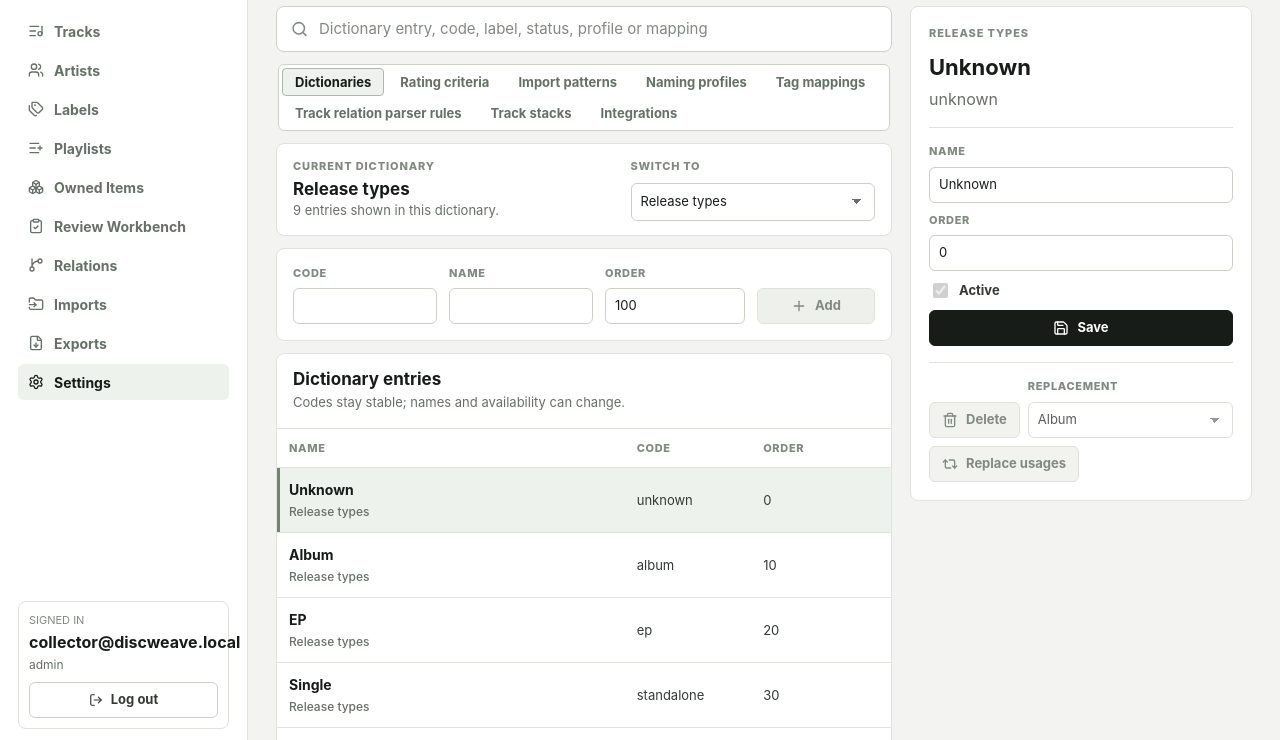
Scenario: App settings and navigation › creates dictionary entries from the settings workspace
Select "Genres" in the dropdown named "Dictionary" at (753, 202), box top-left (631, 183), bottom-right (875, 221)
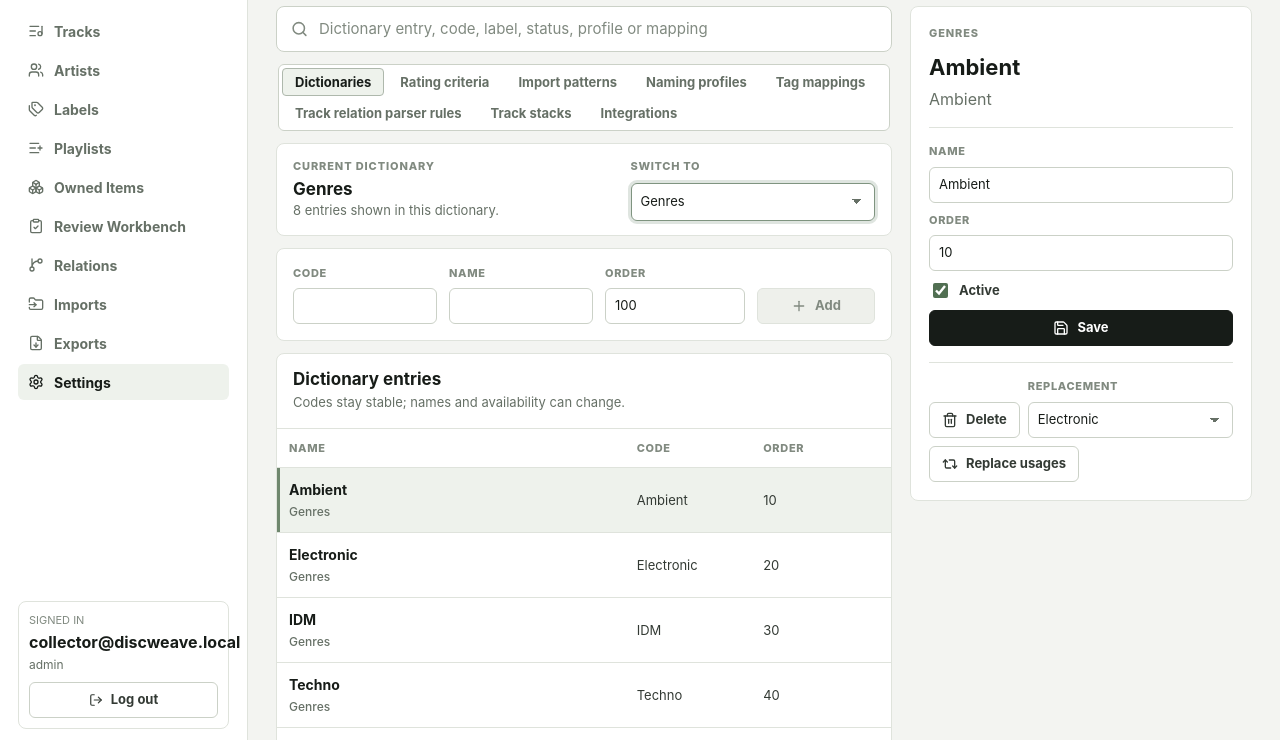
Type "dub" into the field labelled "Code".
click(365, 306); type("dub")  # box top-left (293, 288), bottom-right (437, 324)
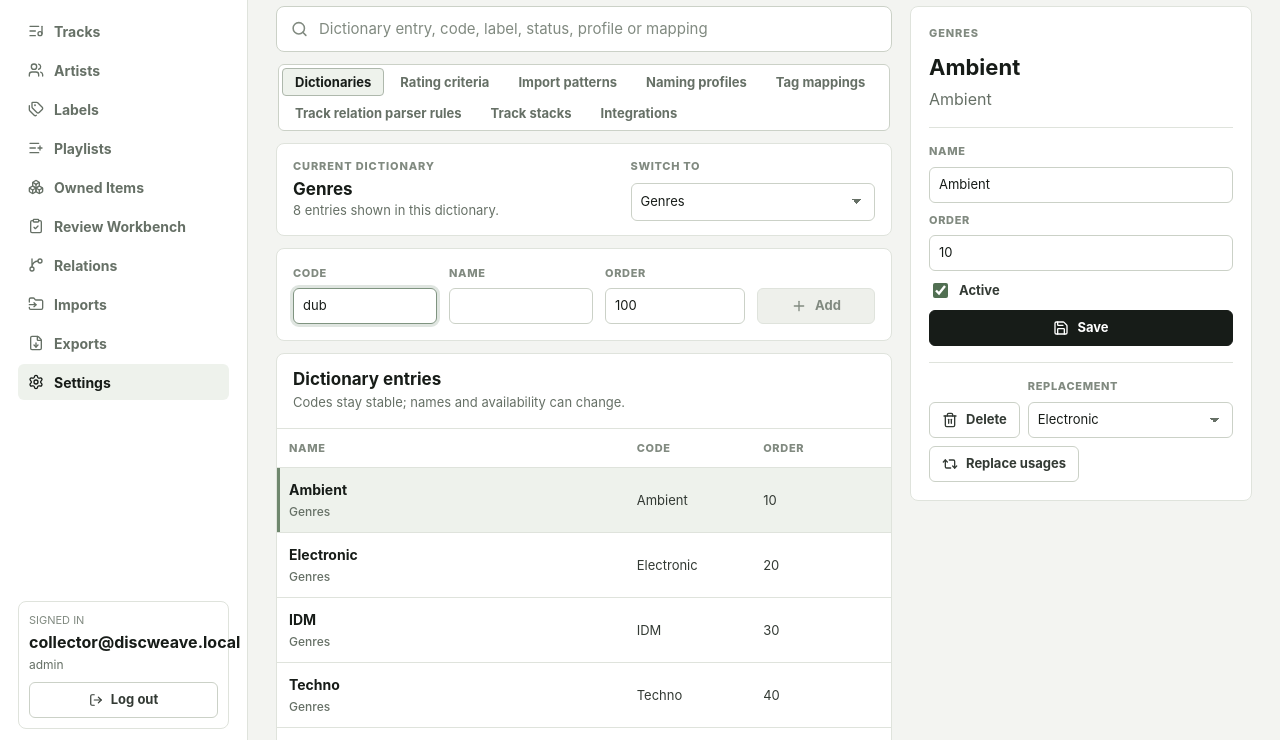
Type "Dub" into the field labelled "Name" below "entries shown in this dictionary.".
click(521, 306); type("Dub")  # box top-left (449, 288), bottom-right (593, 324)
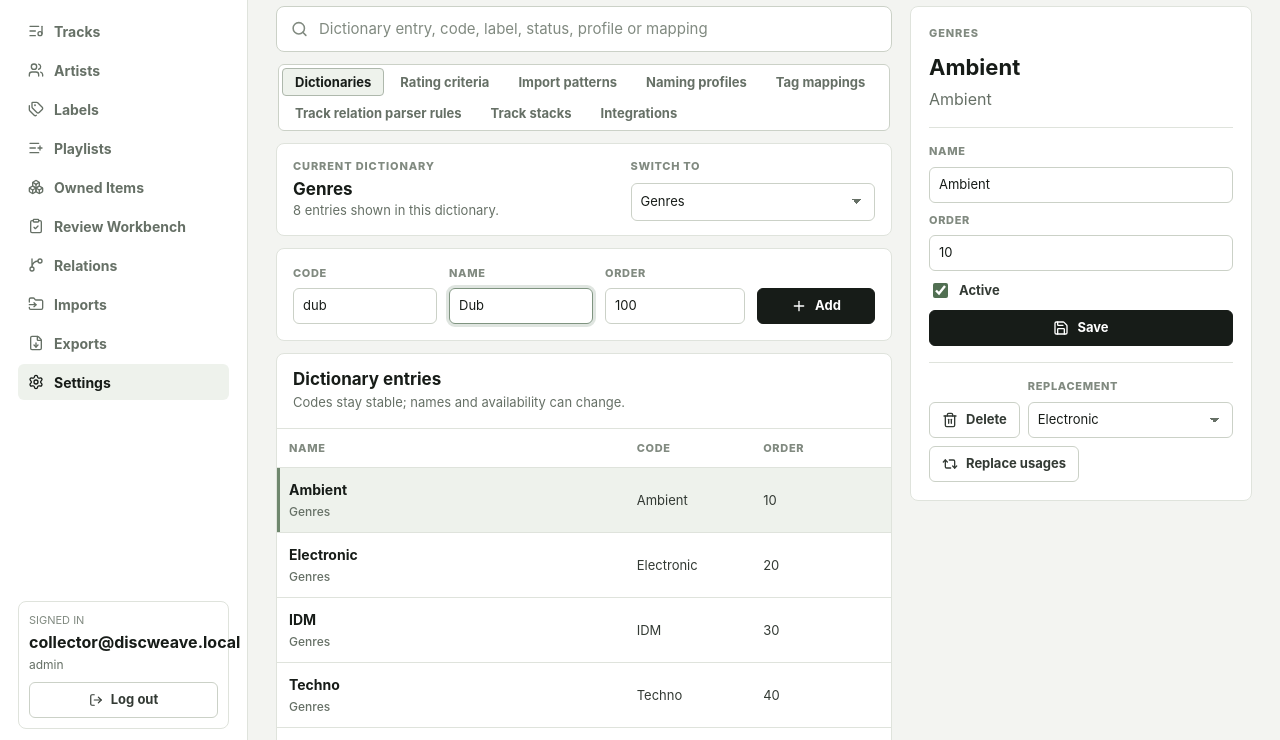
Replace the text in the field labelled "Order" below "entries shown in this dictionary." with "90" at (675, 306), box top-left (605, 288), bottom-right (745, 324)
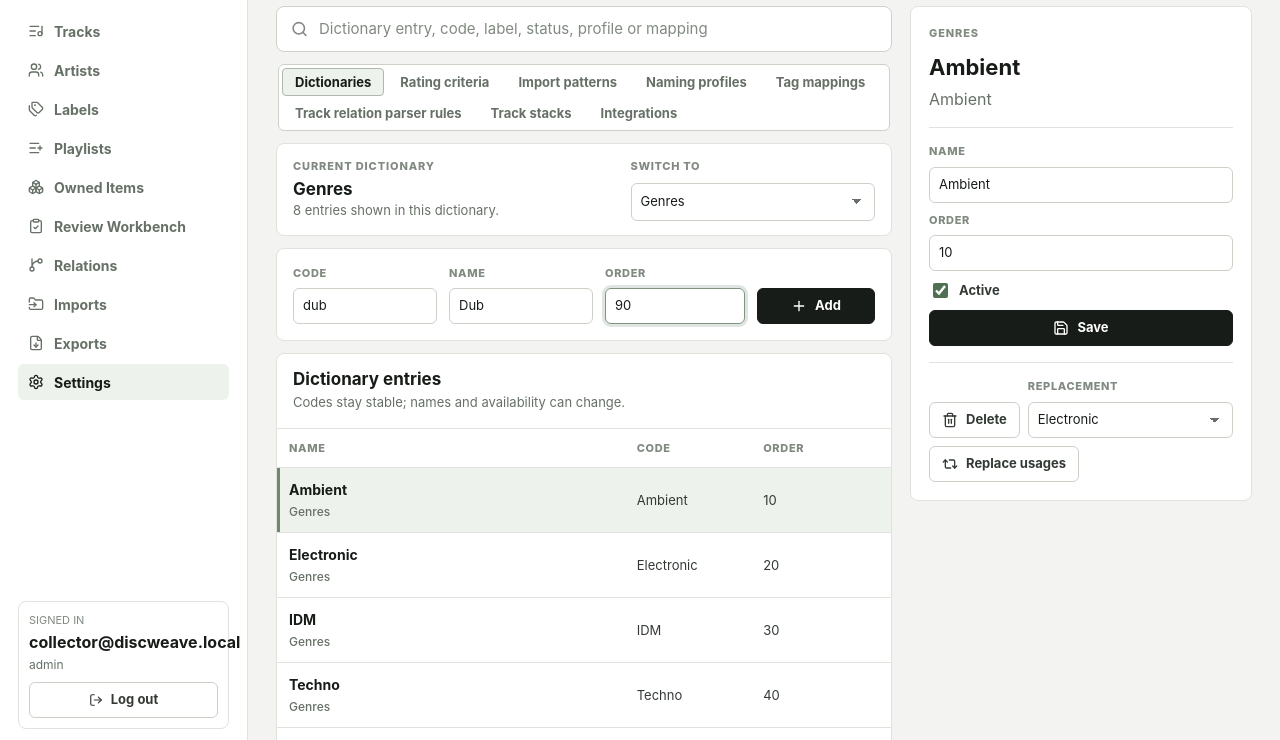
Check: the button "Add" is enabled
Click the button "Add".
click(816, 306)  # box top-left (757, 288), bottom-right (875, 324)
(page scrolled)
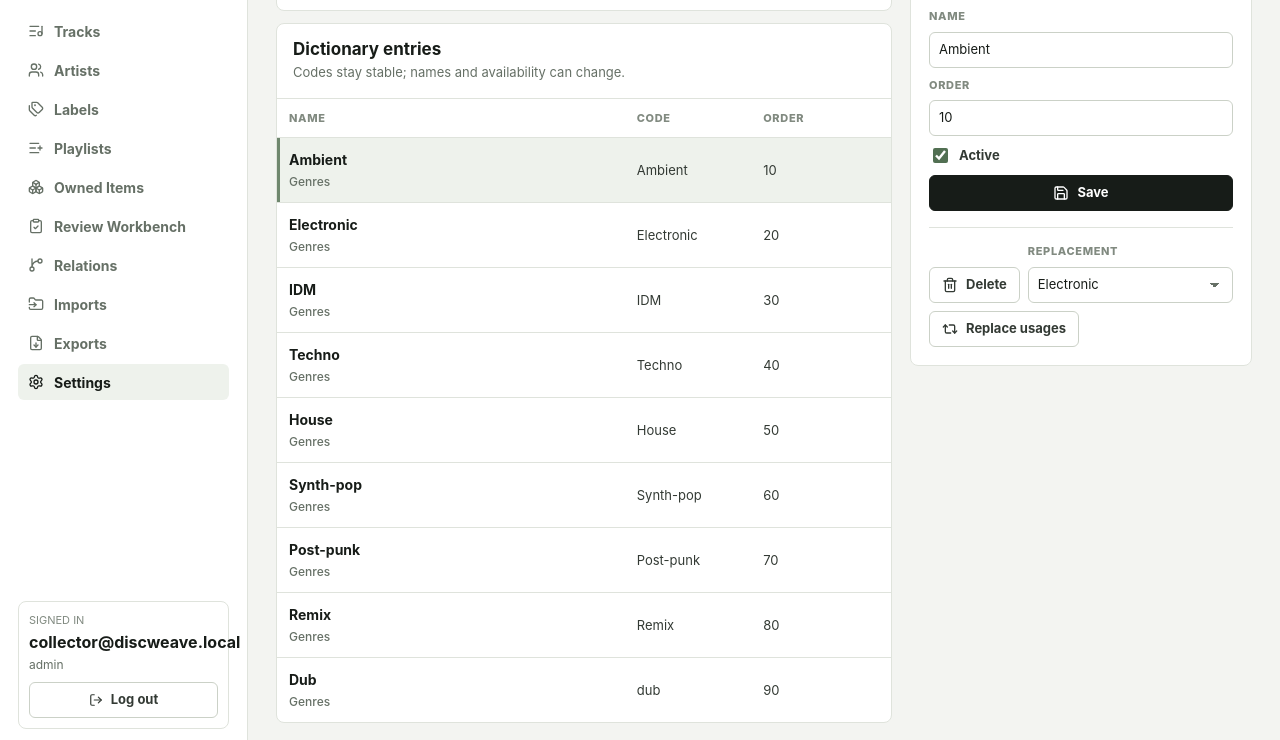
Check: the row named "dubgenres dub 90 active" is shown, box top-left (277, 658), bottom-right (891, 722)
